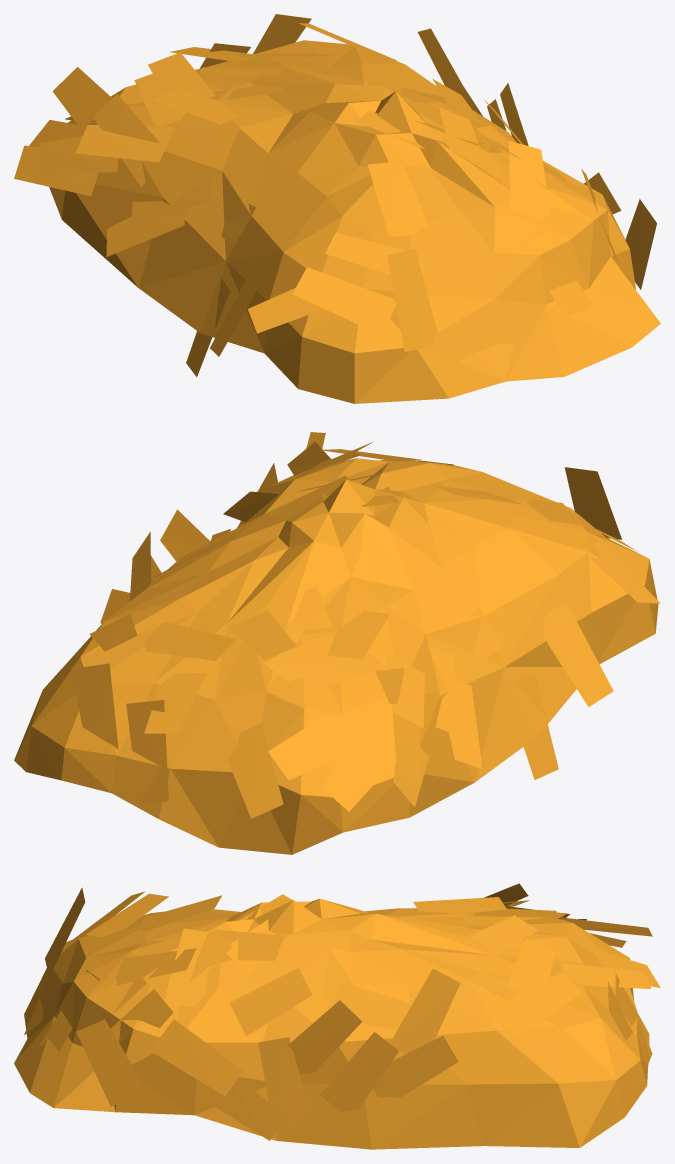
Rendered from SM_Hay_Wheelbarrow_Wood_Fresh.fbx.
3 renders of one model, top to bottom at view 1: azimuth 30°, elevation 25°; view 2: azimuth 150°, elevation 25°; view 3: azimuth 270°, elevation 25°, orthographic. The views are drawn at different scales.
Parts seen in each view (by area): view 1: hay-wheelbarrow-wood-fresh; view 2: hay-wheelbarrow-wood-fresh; view 3: hay-wheelbarrow-wood-fresh.
Boxes of the visible parts, x1,y1,x2,y2 form: hay-wheelbarrow-wood-fresh: (14, 14, 660, 403); hay-wheelbarrow-wood-fresh: (14, 432, 660, 854); hay-wheelbarrow-wood-fresh: (14, 883, 660, 1149).
Size of the model in its own units: 0.4826 by 0.279 by 0.7754.
